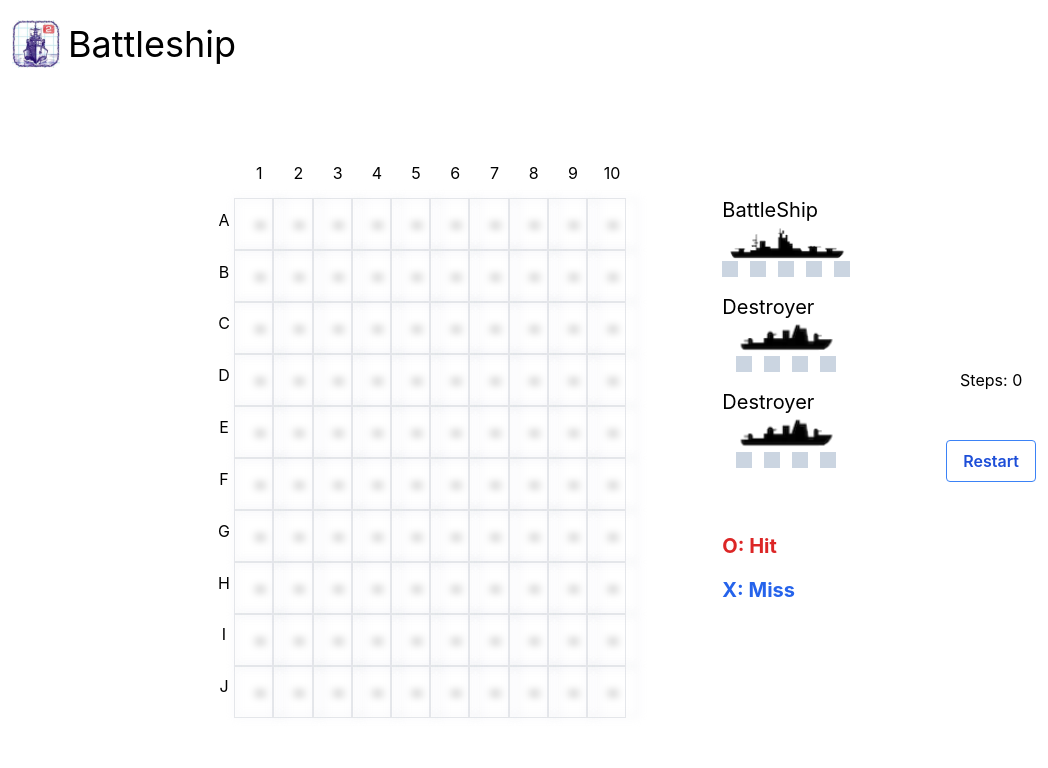
it: BattleContainer Component › resets the game
Note: click a grid cell and then reset the game
What coordinates should you click on to do the following:
click the 1st cell "~"
I would click on:
 (254, 224)
Its box is [234, 198, 273, 250].
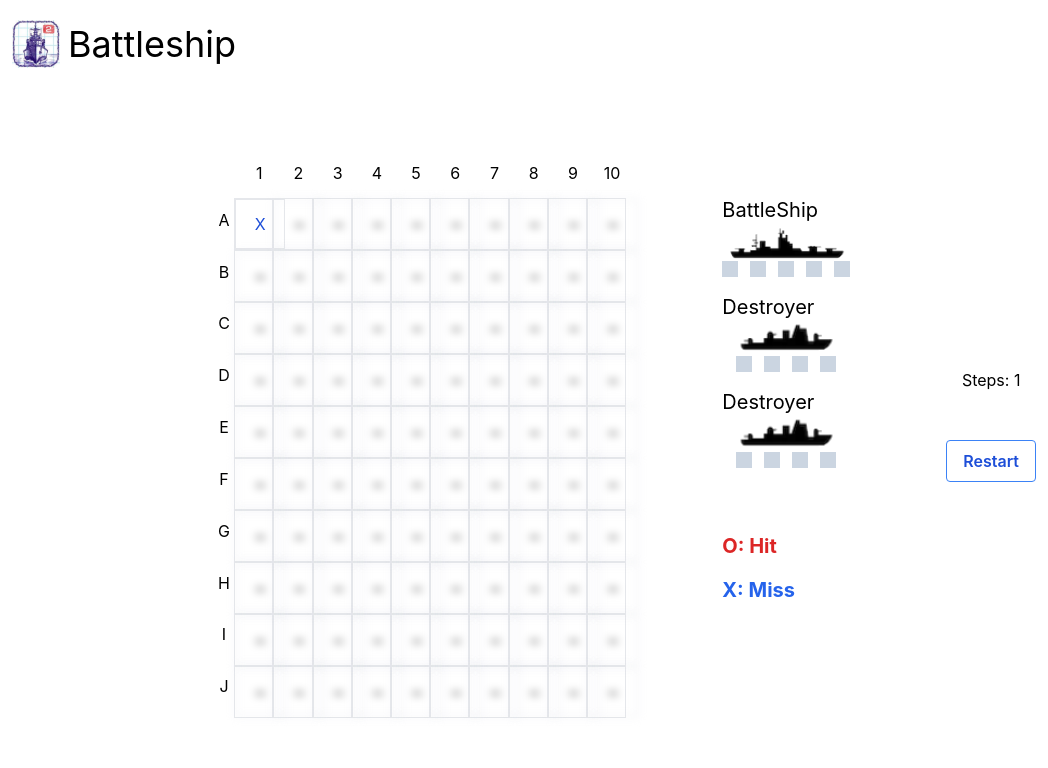
What coordinates should you click on to do the following:
click the button with test id "reset_btn"
I would click on:
 (991, 461)
Its box is [946, 440, 1036, 482].
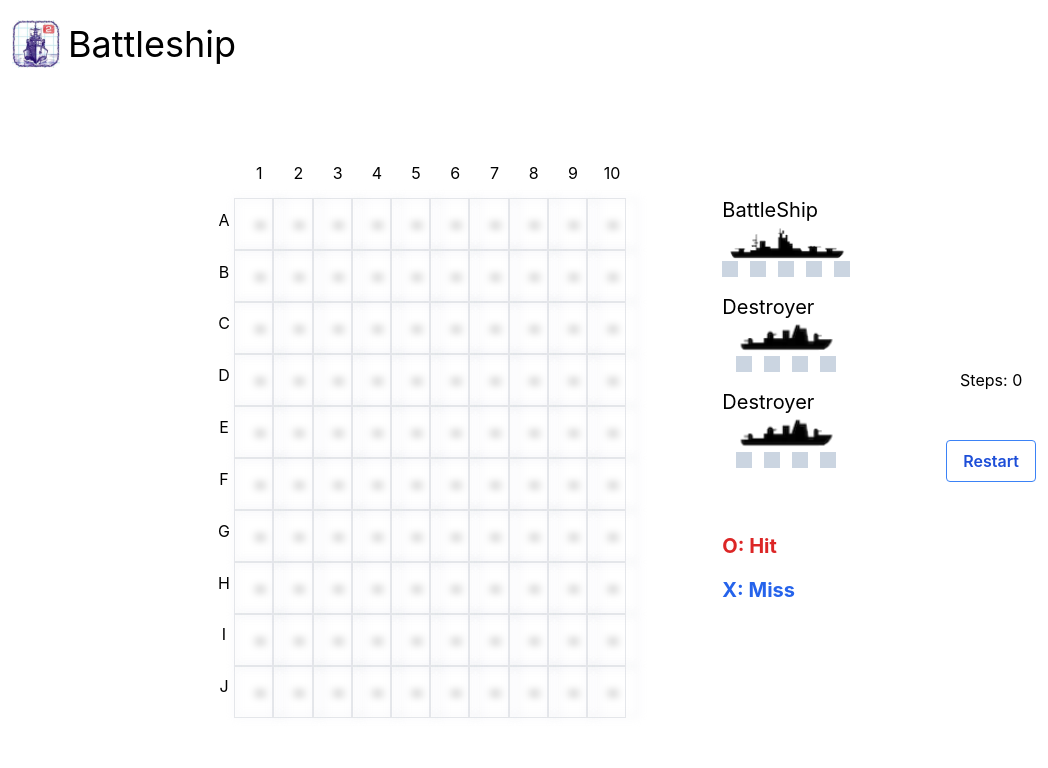
Expected: the text with test id "steps" reads "Steps: 0", [960, 368, 1022, 392]
